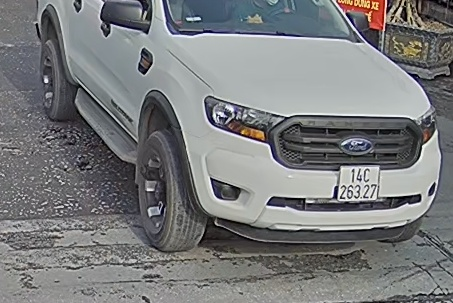vehicle plate: (336, 160, 381, 203)
